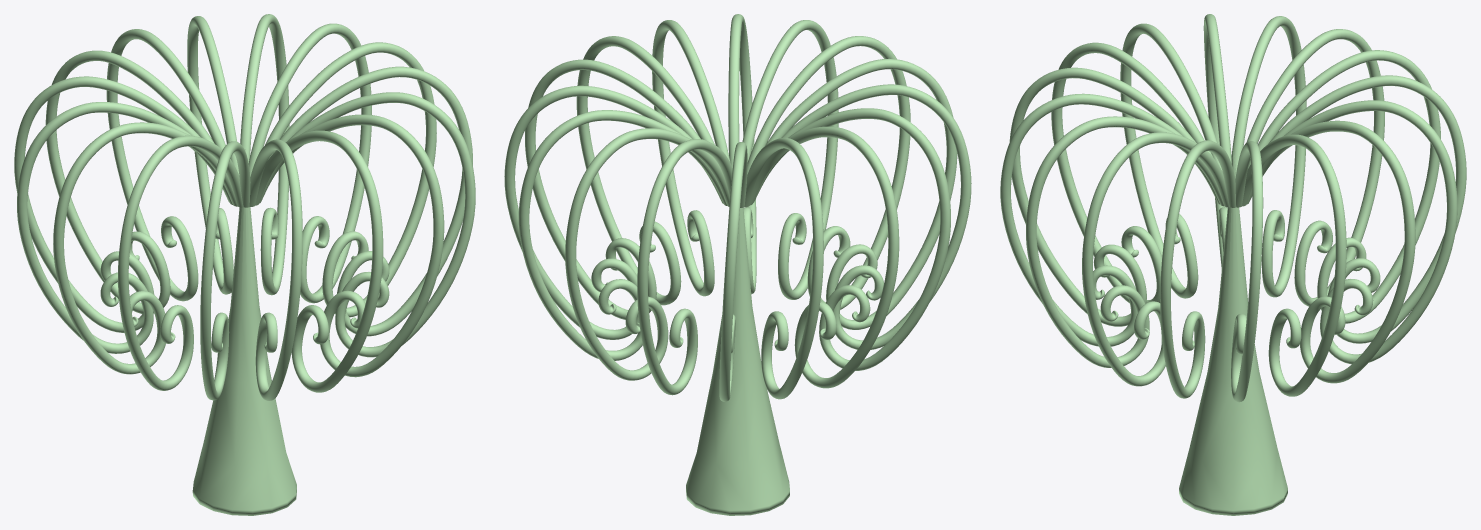
File: garden tree4.fbx
3 renders of one model, left to right at view 1: azimuth 30°, elevation 25°; view 2: azimuth 150°, elevation 25°; view 3: azimuth 270°, elevation 25°, orthographic.
Parts seen in each view (by area): view 1: polySurface28; view 2: polySurface28; view 3: polySurface28.
Boxes of the visible parts, box(x1,y1,x2,y2) form: polySurface28: box(14, 14, 475, 515); polySurface28: box(504, 14, 971, 515); polySurface28: box(1000, 14, 1466, 515).
Bounding box in the file's own units: 7.69 × 7.46 × 7.69.
